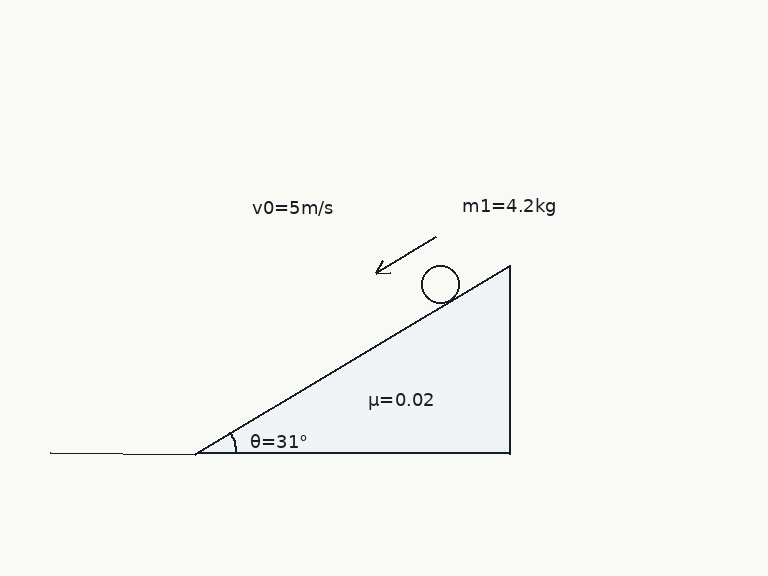ball: (419, 263, 461, 305)
ramp: (194, 263, 512, 455)
